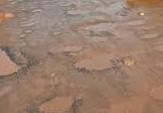pothole: (64, 21, 154, 73), (34, 95, 85, 113), (0, 47, 20, 78)
